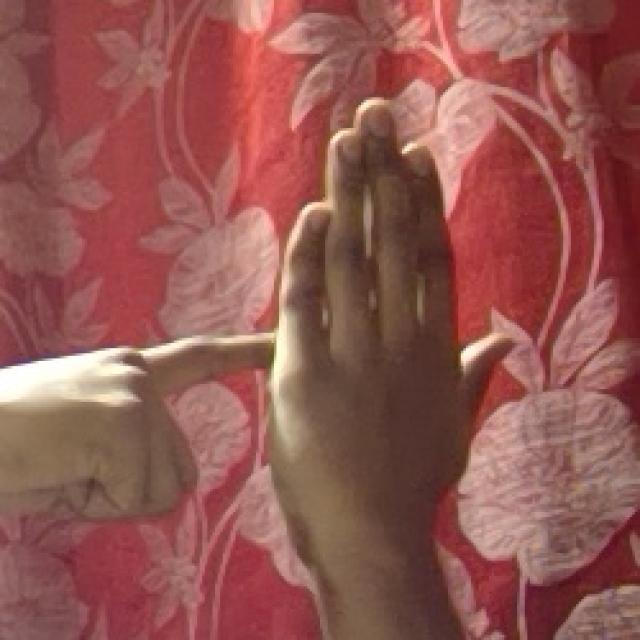Alphabet-R: (1, 83, 548, 586)
